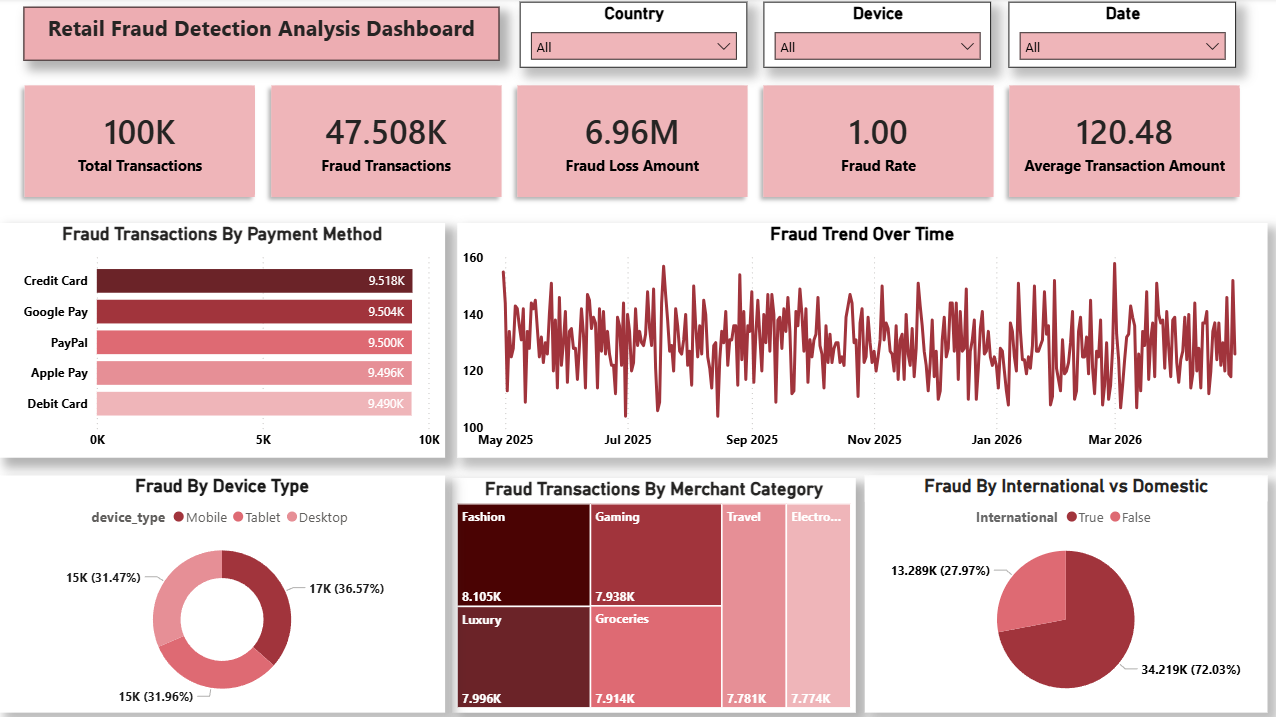

The dashboard page shown, as its layout file describes it:
{"tool":"powerbi","page":{"name":"Retail Fraud Detection Analysis ","canvas":[1280,720],"ordinal":0},"visuals":[{"type":"cardVisual","fields":{"Data":["DateTable.Total Transactions","CountNonNull(transactions.Fraud Transactions)","transactions.Fraud Loss Amount","transactions.Fraud Rate","transactions.Average Transaction Amount"]},"box":[8.7,62.2,1261.4,161.7],"z":0},{"type":"clusteredBarChart","title":"Fraud Transactions By Payment Method","fields":{"Category":["transactions.payment_method"],"Y":["Sum(transactions.Fraud Transactions)"]},"box":[8.7,223.9,442.8,233.9],"z":1},{"type":"treemap","title":"Fraud Transactions By Merchant Category","fields":{"Group":["transactions.merchant_category"],"Values":["Sum(transactions.Fraud Transactions)"]},"box":[459,477.7,401.8,233.9],"z":2},{"type":"pieChart","title":"Fraud By International vs Domestic","fields":{"Category":["transactions.is_international"],"Y":["Sum(transactions.Fraud Transactions)"]},"box":[869.5,475.2,400.6,236.4],"z":3},{"type":"donutChart","title":" Fraud By Device Type","fields":{"Category":["transactions.device_type"],"Y":["Sum(transactions.Fraud Transactions)"]},"box":[8.7,475.2,442.8,236.4],"z":4},{"type":"lineChart","title":"Fraud Trend Over Time","fields":{"Category":["transactions.transaction_date"],"Y":["Sum(transactions.Fraud Transactions)"]},"box":[464,223.9,806.1,233.9],"z":5},{"type":"textbox","box":[32.3,8.7,473.9,53.5],"z":6},{"type":"slicer","title":"Country","fields":{"Values":["transactions.location"]},"box":[526.2,3.7,226.4,65.9],"z":7},{"type":"slicer","title":"Device","fields":{"Values":["transactions.device_type"]},"box":[768.8,3.7,226.4,65.9],"z":8},{"type":"slicer","title":"Date","fields":{"Values":["DateTable.Date.Variation.Date Hierarchy.Year","DateTable.Date.Variation.Date Hierarchy.Quarter","DateTable.Date.Variation.Date Hierarchy.Month","DateTable.Date.Variation.Date Hierarchy.Day"]},"box":[1012.6,3.7,226.4,65.9],"z":9}]}

Visuals, with their boxes in screenshot pixels (x1, y1, x2, y2), scaled from the page's 1280x720 canvas onto the 1276x717 screenshot:
cardVisual - DateTable.Total Transactions x CountNonNull(transactions.Fraud Transactions): x1=9, y1=62, x2=1266, y2=223
"Fraud Transactions By Payment Method" clusteredBarChart: x1=9, y1=223, x2=450, y2=456
"Fraud Transactions By Merchant Category" treemap: x1=458, y1=476, x2=858, y2=709
"Fraud By International vs Domestic" pieChart: x1=867, y1=473, x2=1266, y2=709
" Fraud By Device Type" donutChart: x1=9, y1=473, x2=450, y2=709
"Fraud Trend Over Time" lineChart: x1=463, y1=223, x2=1266, y2=456
textbox: x1=32, y1=9, x2=505, y2=62
"Country" slicer: x1=525, y1=4, x2=750, y2=69
"Device" slicer: x1=766, y1=4, x2=992, y2=69
"Date" slicer: x1=1009, y1=4, x2=1235, y2=69
